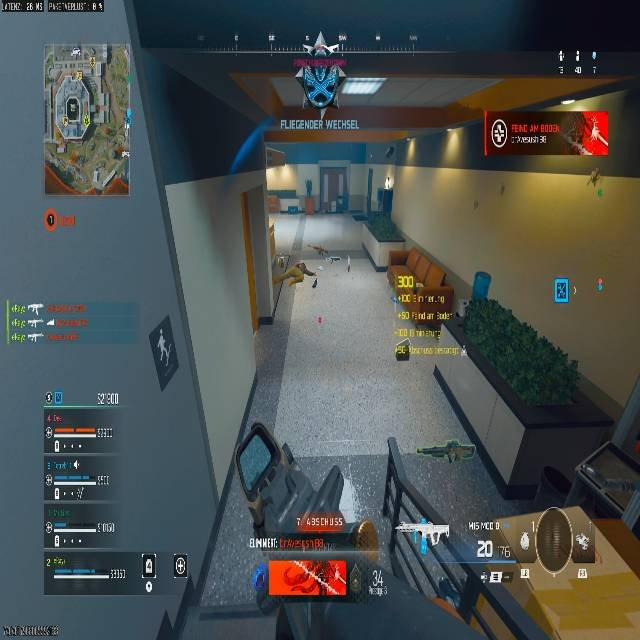player: (295, 57, 346, 116)
